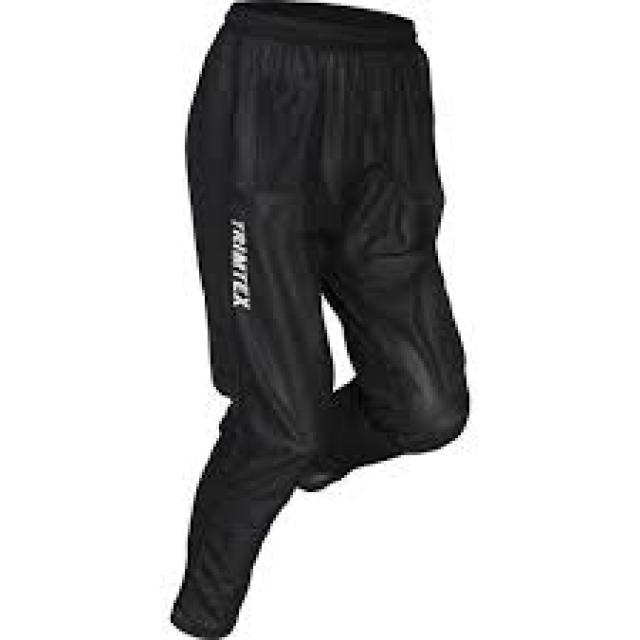long-pants: (166, 0, 469, 638)
